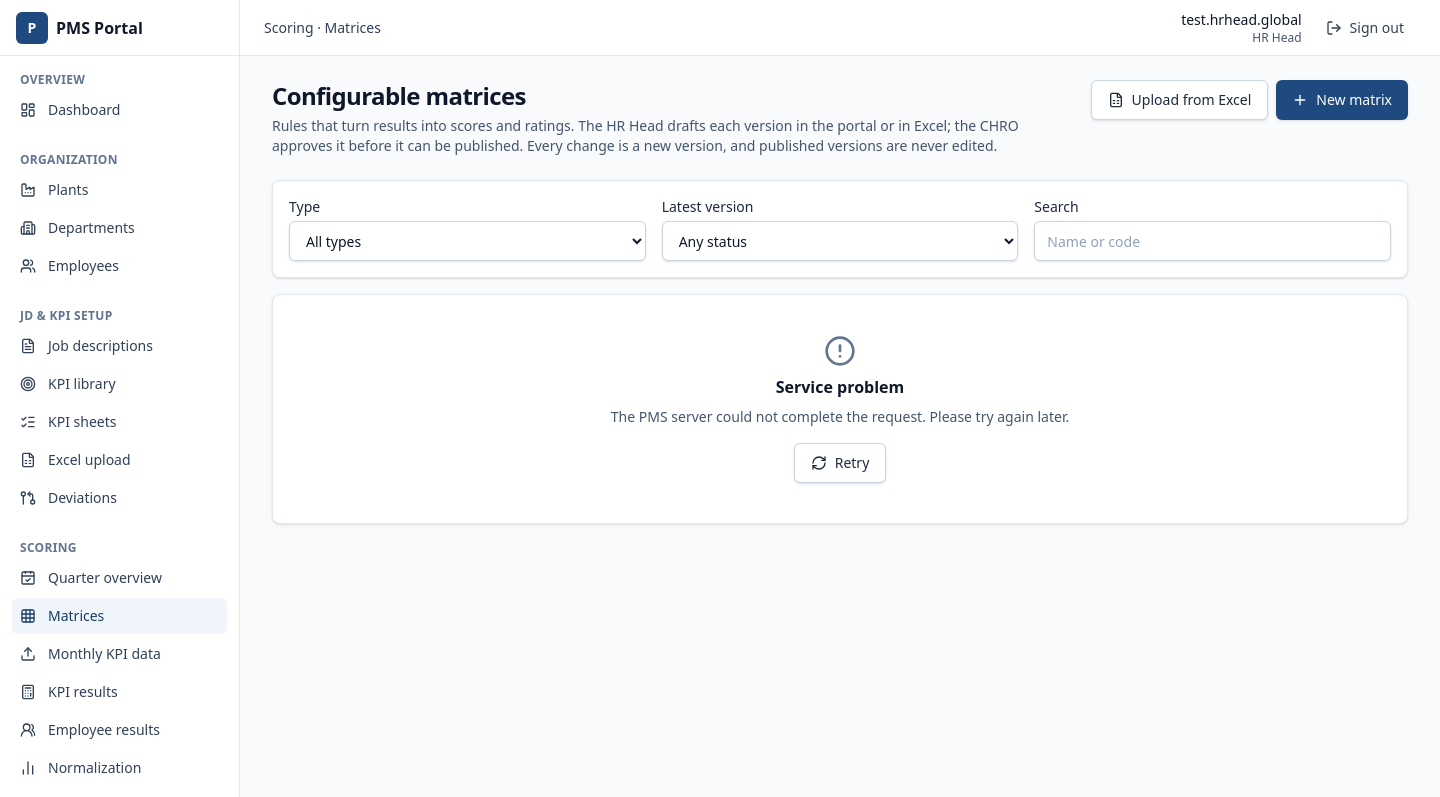
Test: matrix list › offers a retry when the list cannot load
The image size is (1440, 797).
Click the button "Retry": click(840, 463) [794,443,886,483]
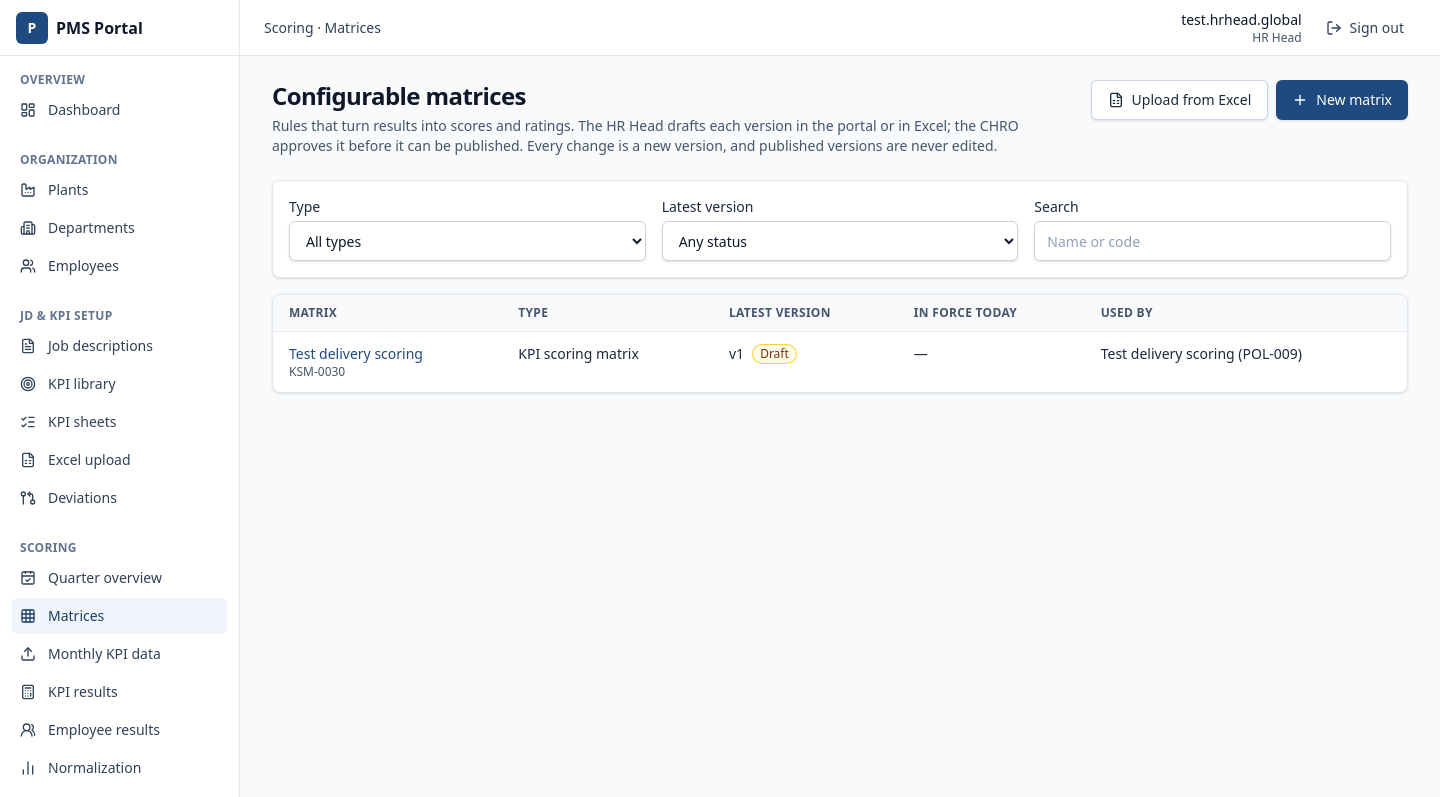
Expected: the link "Test delivery scoring" is shown, [289,344,423,363]
